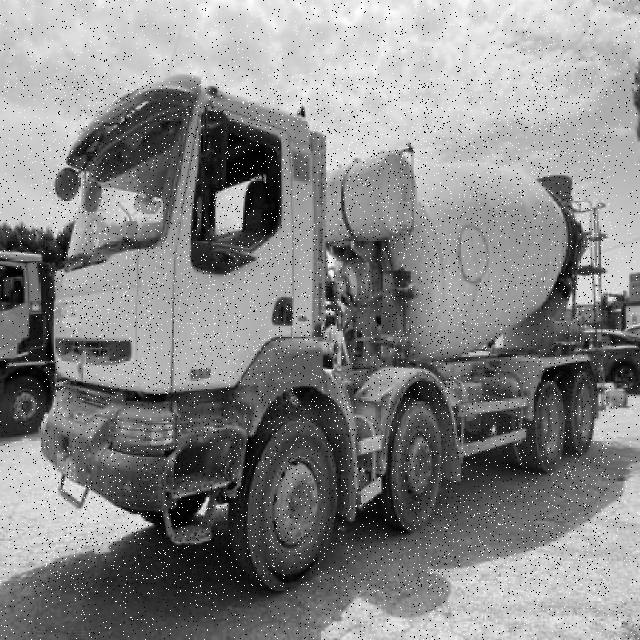Concrete Mixer: (41, 75, 610, 594)
